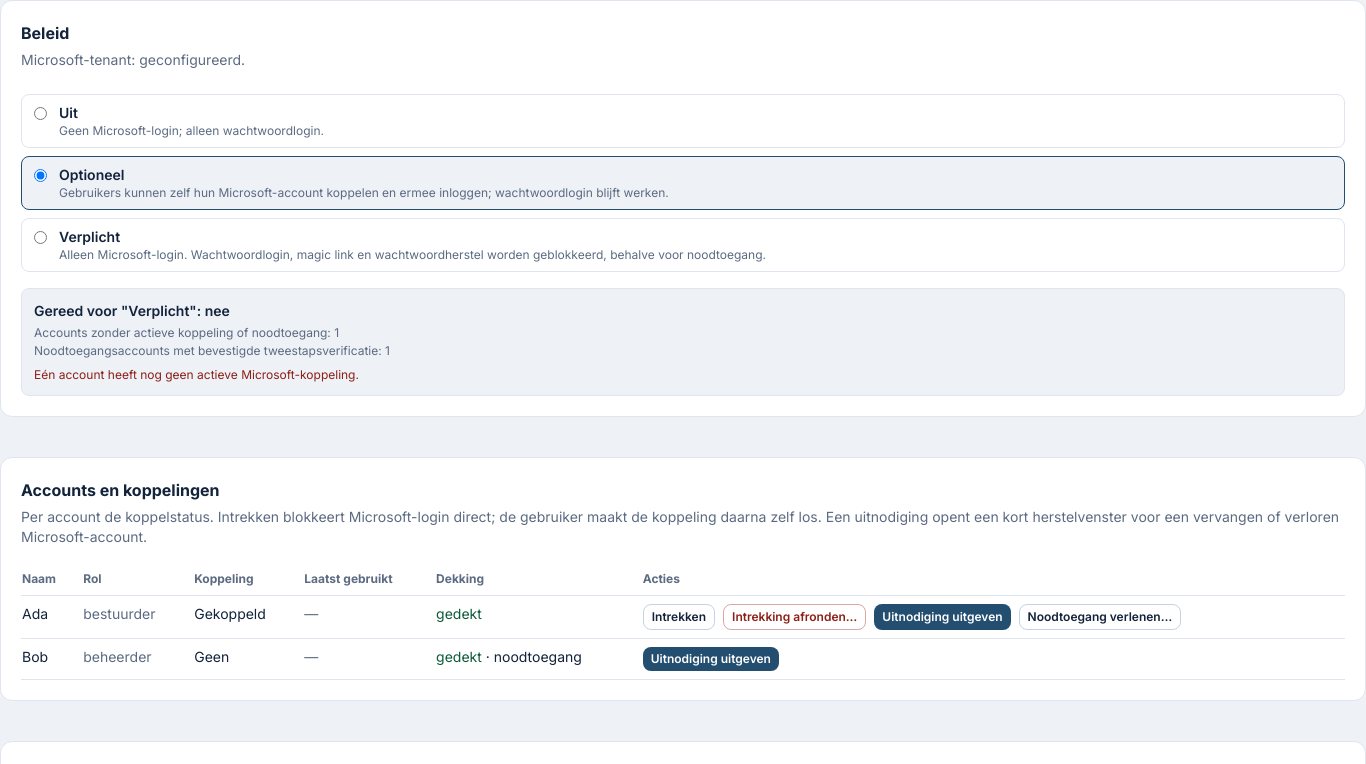
Test: LoginBeleidBeheer › uitnodiging: link één keer getoond met kopieerknop, met het token in het fragment; niet in de DOM buiten het veld, niet opgeslagen
Click the button "Uitnodiging uitgeven" in the row of "Ada".
click(942, 617)  # box x1=874 y1=604 x2=1011 y2=630
(page scrolled)
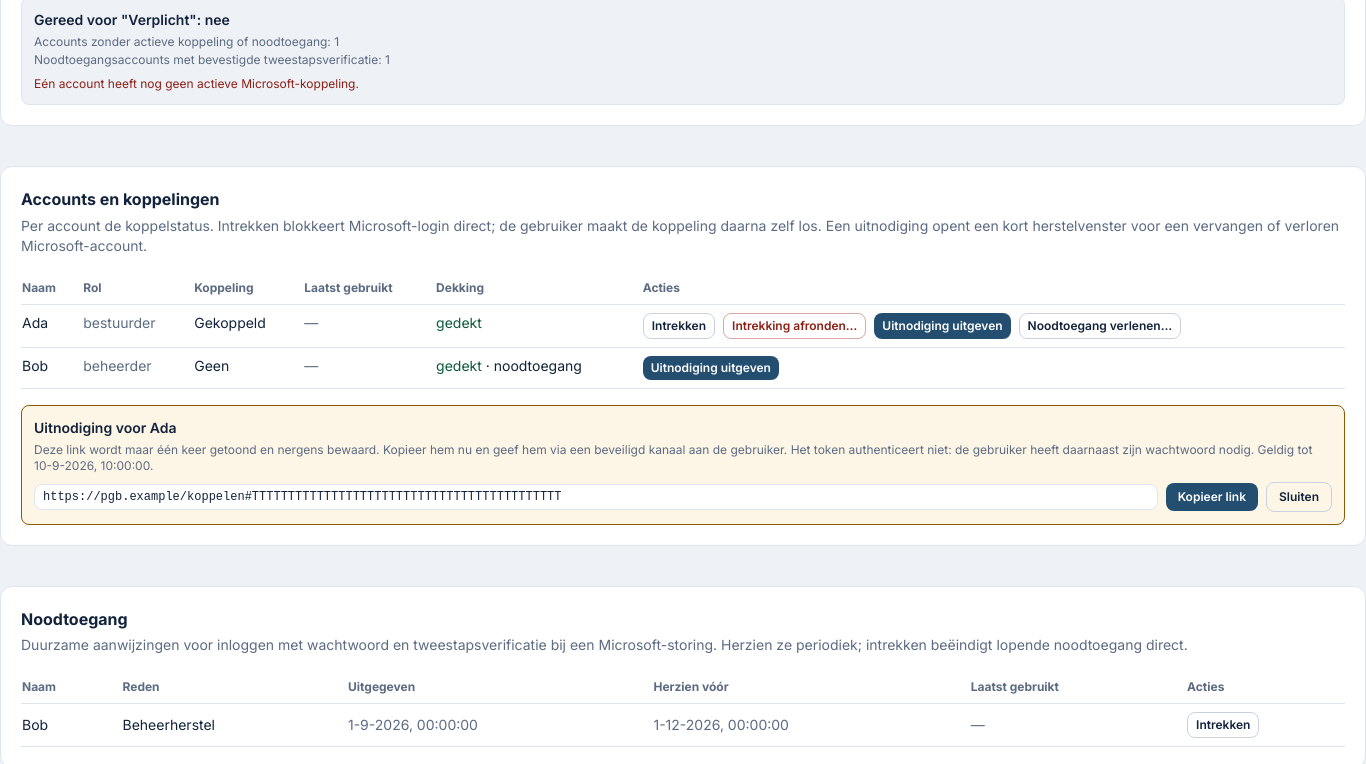
Check: the text "één keer getoond" is shown, box x1=34 y1=442 x2=1254 y2=457
Click the button "Kopieer link".
click(1212, 497)  # box x1=1166 y1=483 x2=1258 y2=511
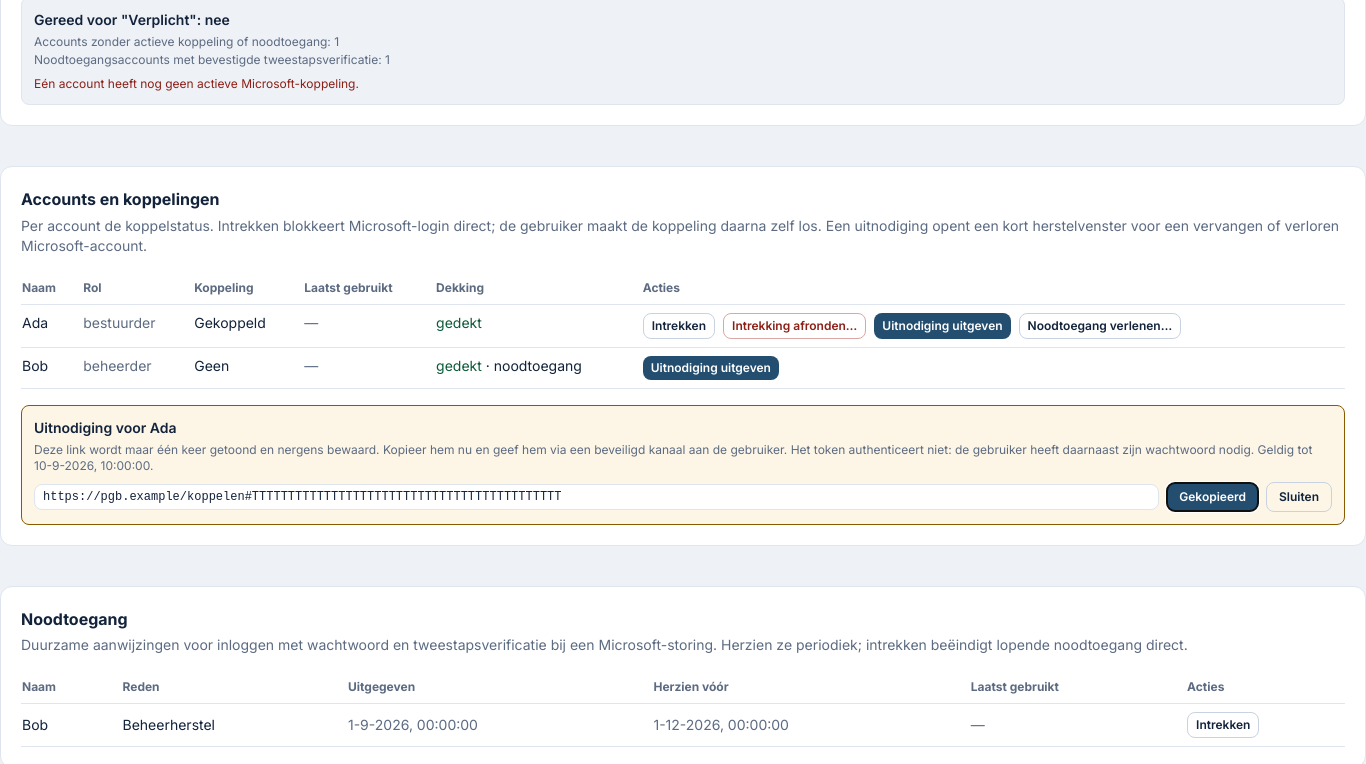
Check: the button "Gekopieerd" is shown, box x1=1167 y1=483 x2=1258 y2=511
Click the button "Sluiten".
click(1299, 497)  # box x1=1266 y1=482 x2=1332 y2=512
(page scrolled)
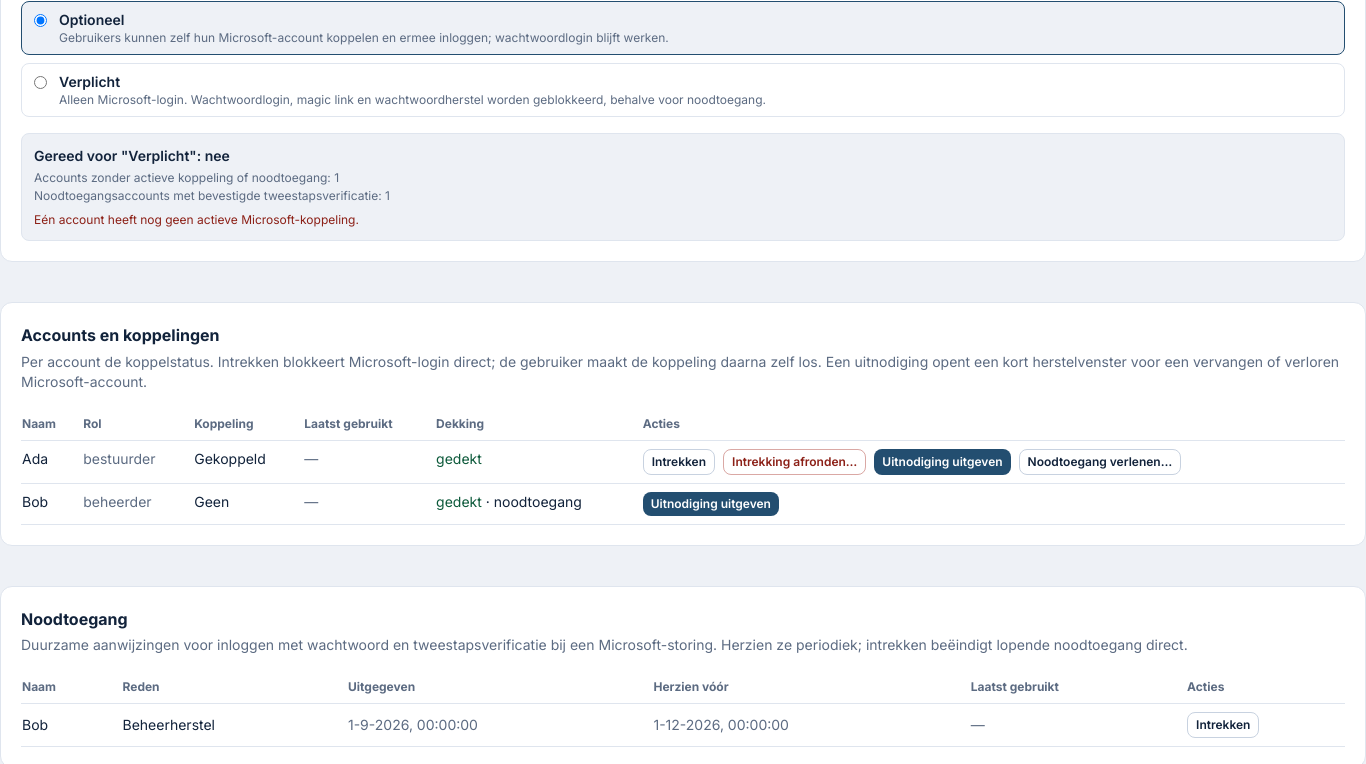
Check: the field labelled "Uitnodigingslink" is gone
